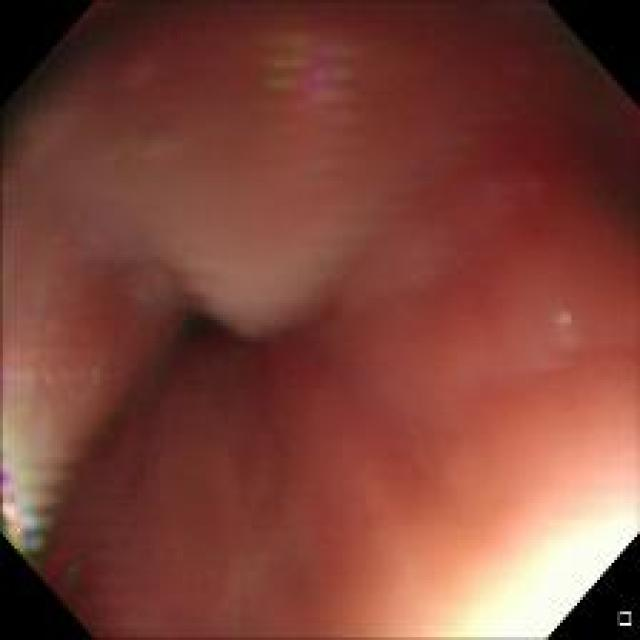color misalignment: (5, 341, 121, 571), (260, 22, 340, 126)
saturation: (401, 492, 638, 634)
